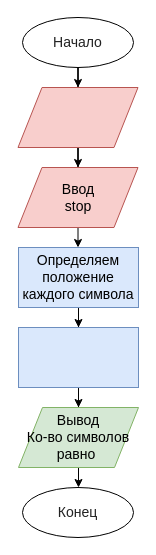
Image size: 156x555. Some labels were removed from this diagram. Here are the shapes that lost their labels. From the top down, the centre of each, then its label:
At [77,117]: "Ввод start".
At [78,357]: "Отнимаем номер второго от первого".
